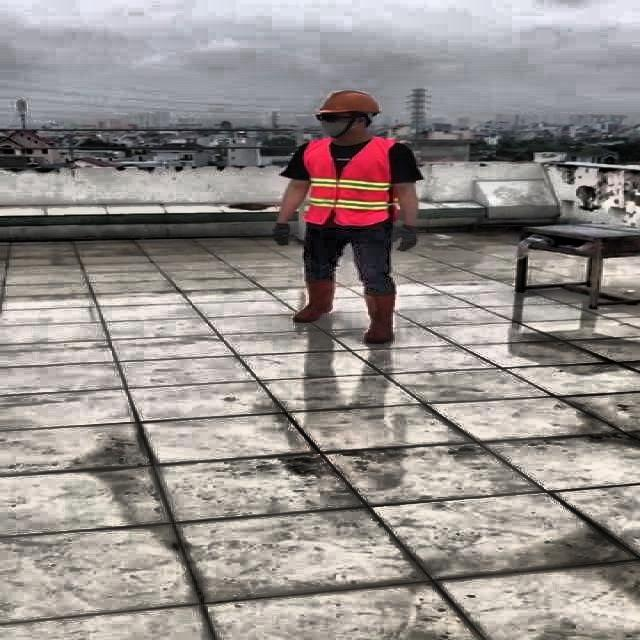safety_helmet: (314, 88, 386, 116)
safety_jacket: (298, 138, 394, 225)
